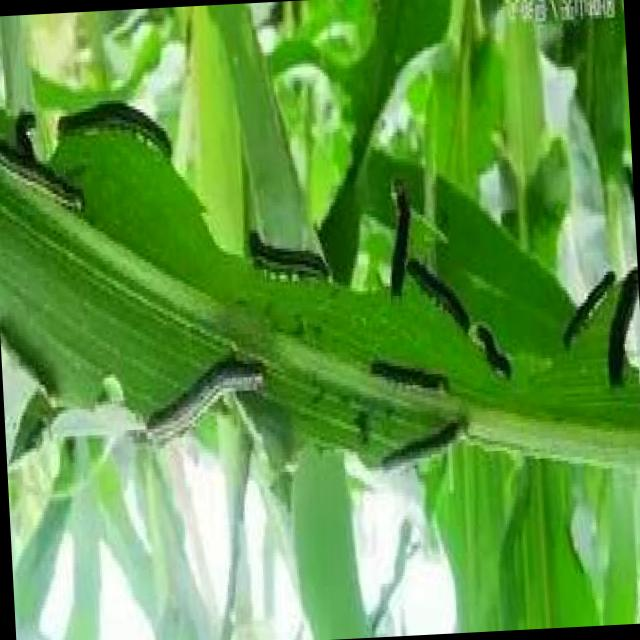pest: (1, 128, 91, 221), (148, 367, 262, 439), (59, 99, 181, 157), (560, 260, 620, 365), (380, 417, 476, 475), (243, 236, 334, 286), (406, 265, 474, 329), (606, 270, 640, 398), (389, 181, 420, 303), (365, 363, 456, 397), (475, 323, 516, 378)
